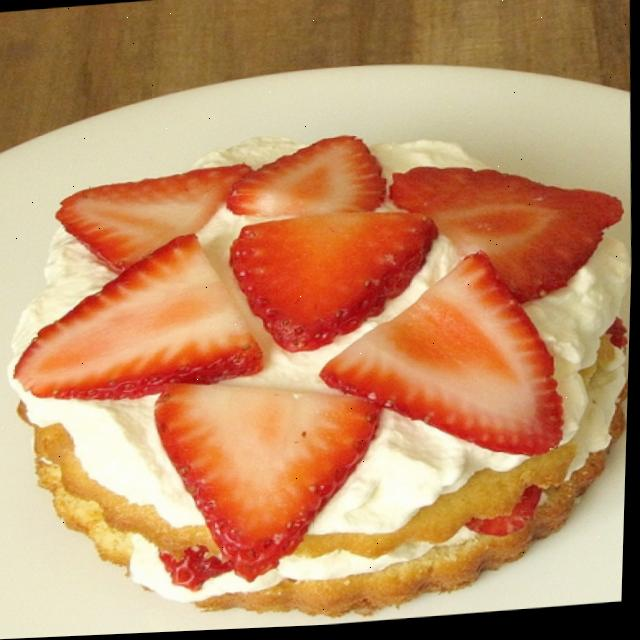蛋糕甜品: (0, 75, 638, 639)
